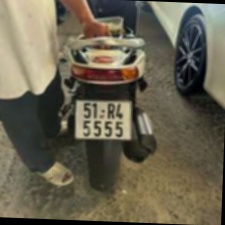Bien-so: (79, 107, 135, 151)
